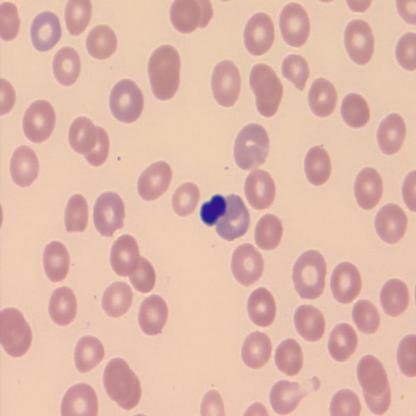NRC: (198, 191, 228, 231)
